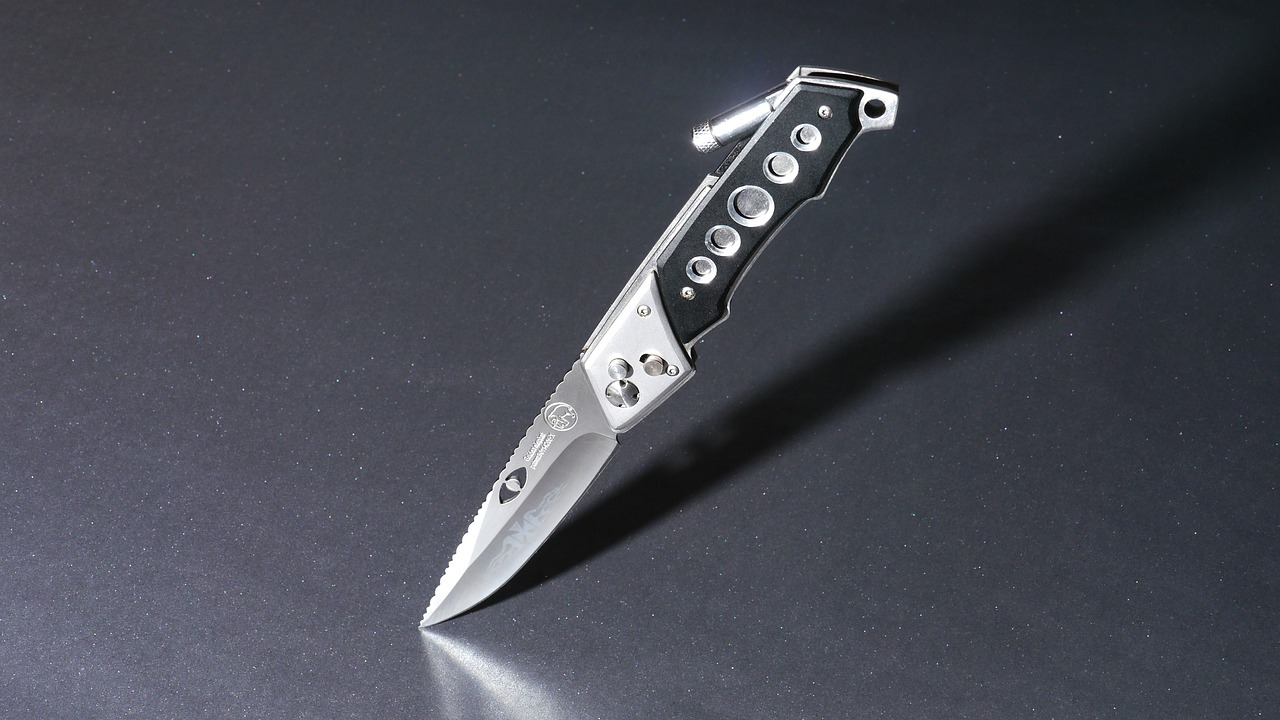knife: (406, 58, 909, 646)
